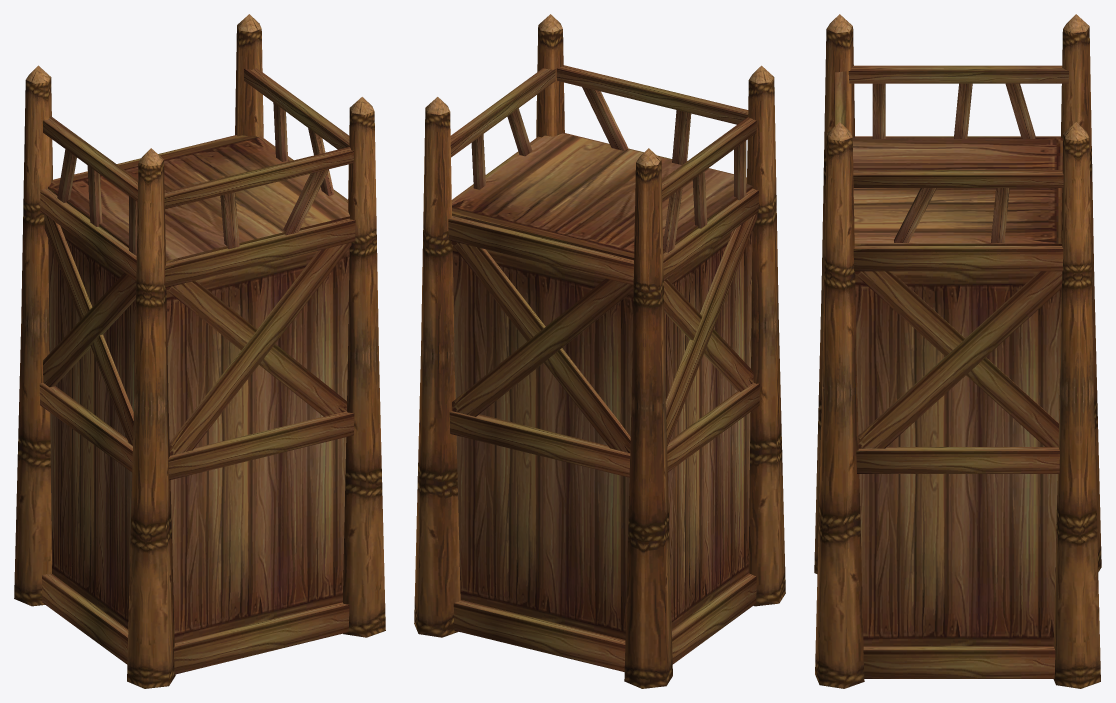
The model's file is environment_Building_yingzhai_001_a.FBX.
3 renders of one model, left to right at view 1: azimuth 30°, elevation 25°; view 2: azimuth 150°, elevation 25°; view 3: azimuth 270°, elevation 25°, orthographic. The views are drawn at different scales.
Parts seen in each view (by area): view 1: environment_Building_yingzhai_001_a2, environment_Building_yingzhai_001_a1; view 2: environment_Building_yingzhai_001_a2, environment_Building_yingzhai_001_a1; view 3: environment_Building_yingzhai_001_a2, environment_Building_yingzhai_001_a1.
Boxes of the visible parts, left/top/right/bottom form: environment_Building_yingzhai_001_a2: left=39, top=68, right=355, bottom=674; environment_Building_yingzhai_001_a1: left=14, top=14, right=385, bottom=688; environment_Building_yingzhai_001_a2: left=448, top=65, right=759, bottom=671; environment_Building_yingzhai_001_a1: left=414, top=14, right=785, bottom=688; environment_Building_yingzhai_001_a2: left=835, top=65, right=1068, bottom=678; environment_Building_yingzhai_001_a1: left=814, top=14, right=1101, bottom=688.
Size of the model in its own units: 275 by 257 by 550.
